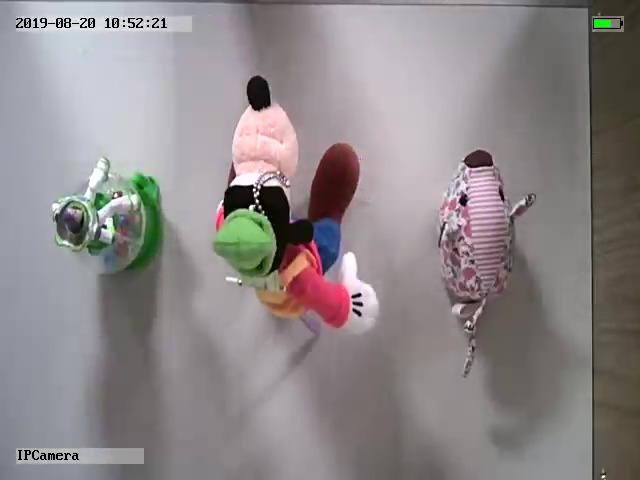buzz: (48, 156, 164, 275)
goofy: (212, 74, 380, 333)
pig: (435, 148, 538, 381)
